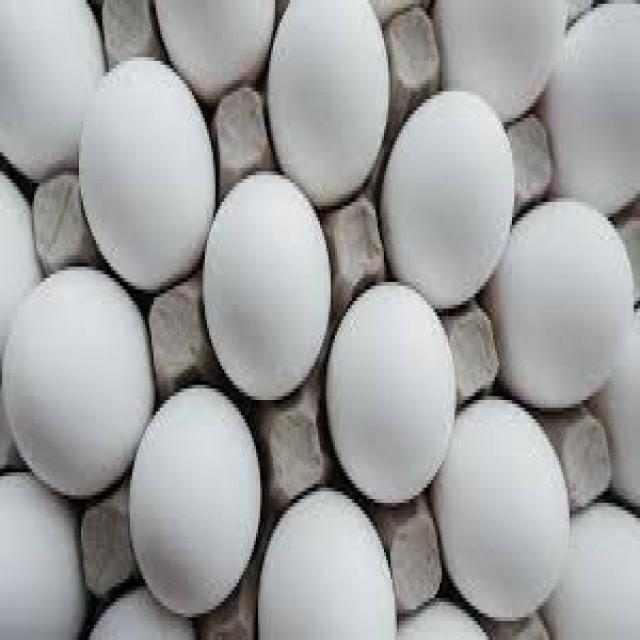White Egg: (73, 50, 217, 292), (431, 387, 570, 628), (12, 261, 146, 508), (121, 397, 256, 612), (204, 167, 334, 390), (384, 83, 516, 302), (322, 281, 450, 494), (252, 489, 402, 640), (269, 1, 385, 188)
